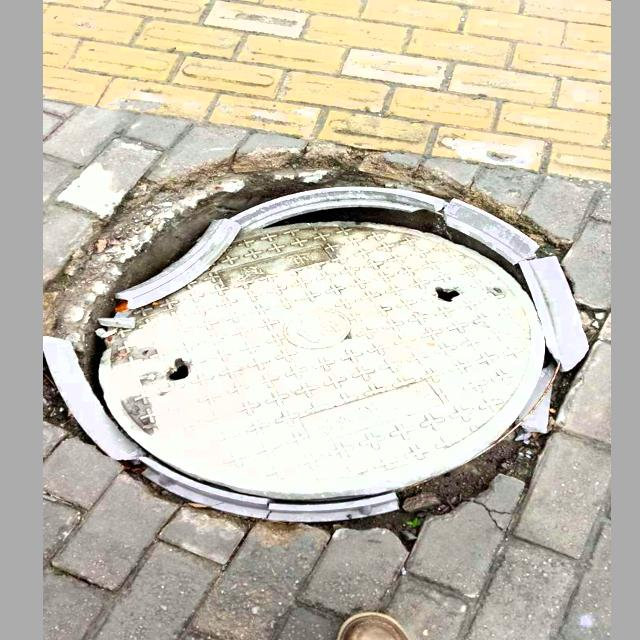circle: (49, 149, 603, 542)
